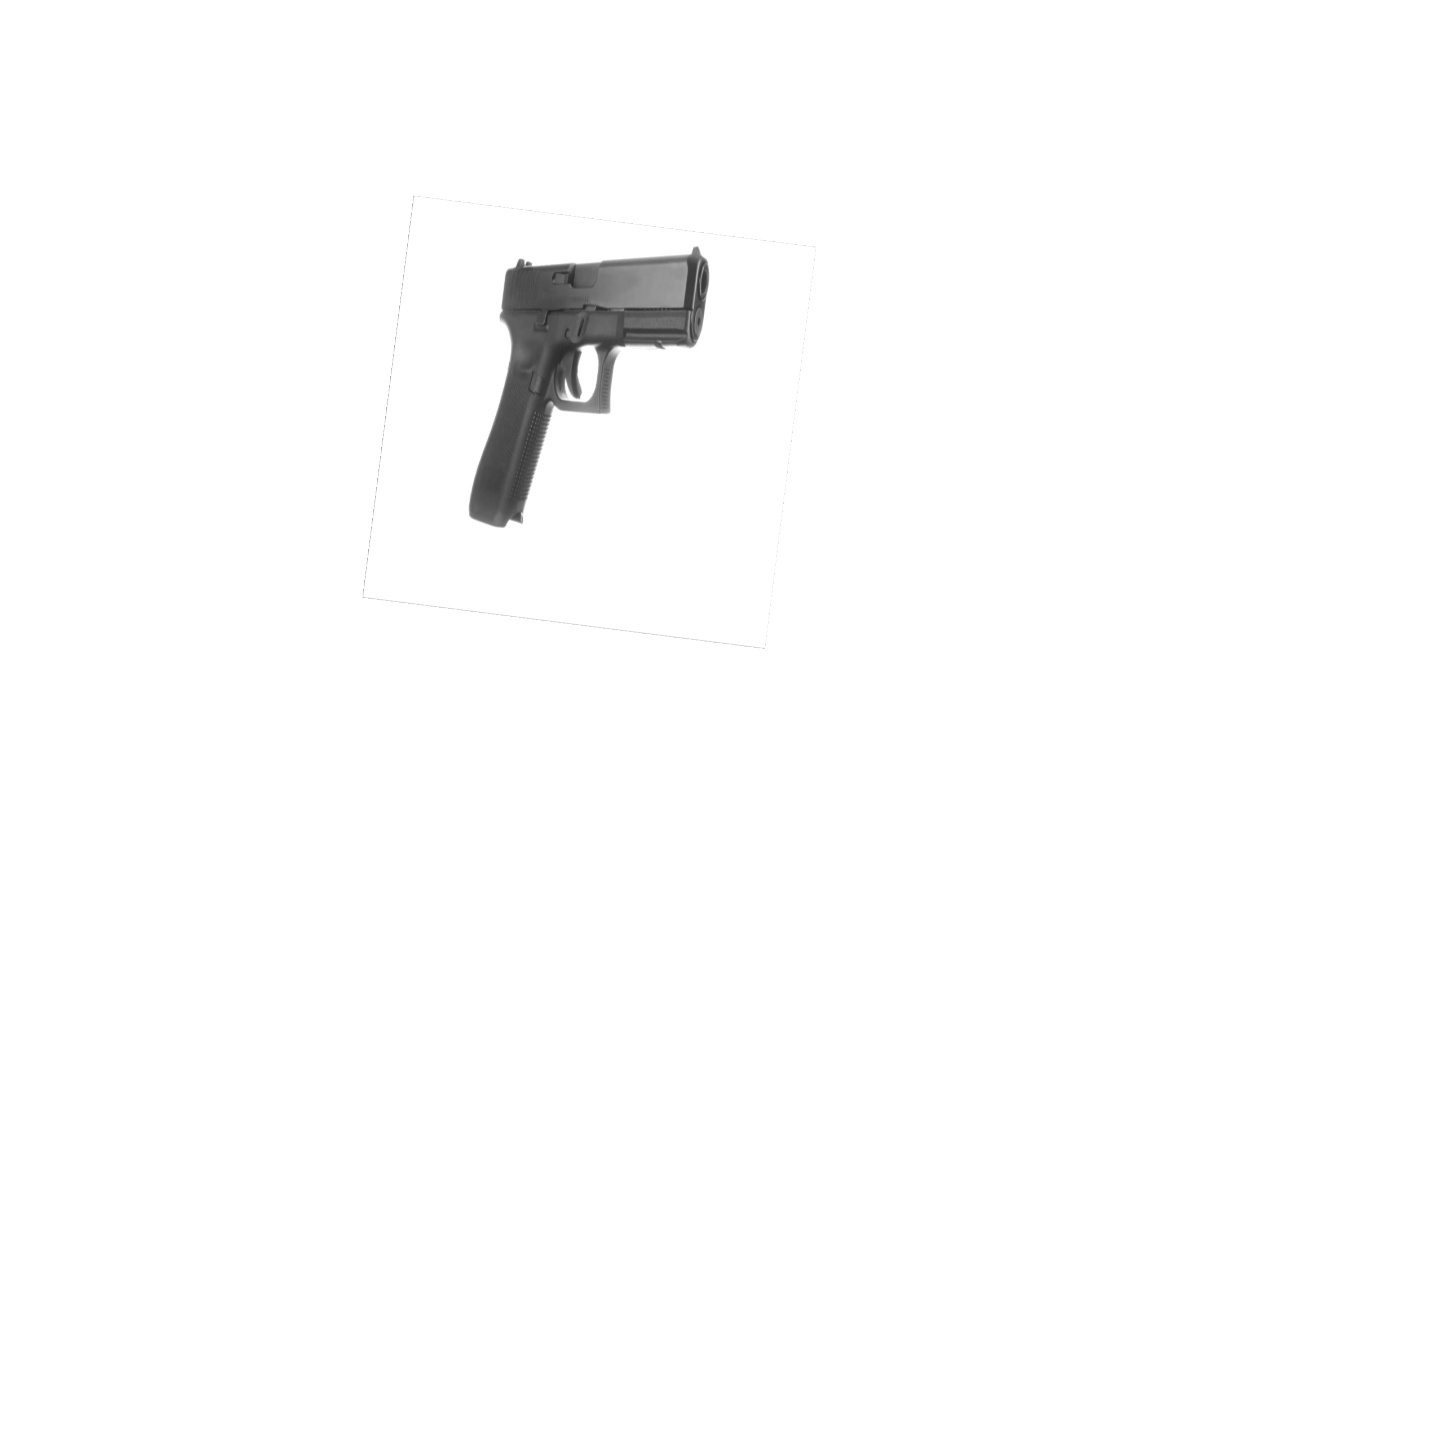gun: (458, 234, 715, 536)
